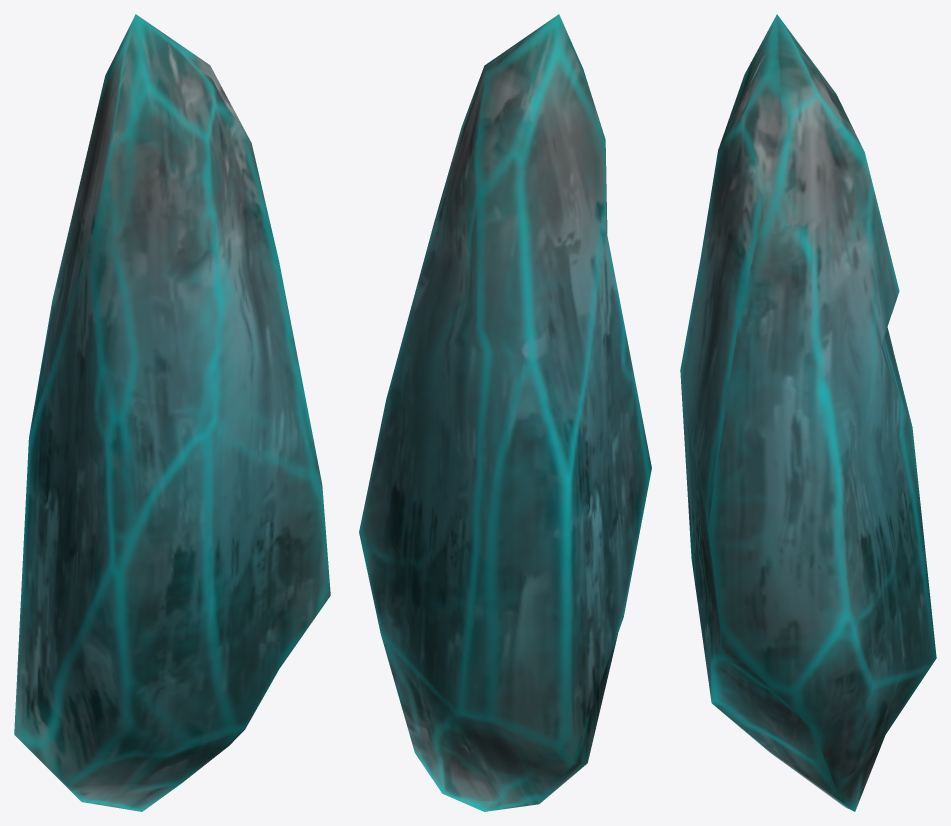
The model's file is Spike_04.FBX.
3 views of the same model, side by side, from view 1: azimuth 30°, elevation 25°; view 2: azimuth 150°, elevation 25°; view 3: azimuth 270°, elevation 25° (orthographic). The views are drawn at different scales.
Visible parts, largest first — view 1: Spike_Ice_004; view 2: Spike_Ice_004; view 3: Spike_Ice_004.
Boxes of the visible parts, x1,y1,x2,y2 form: Spike_Ice_004: (14, 14, 330, 811); Spike_Ice_004: (359, 14, 651, 811); Spike_Ice_004: (680, 14, 936, 811).
Size of the model in its own units: 10 by 32.2 by 9.67.
